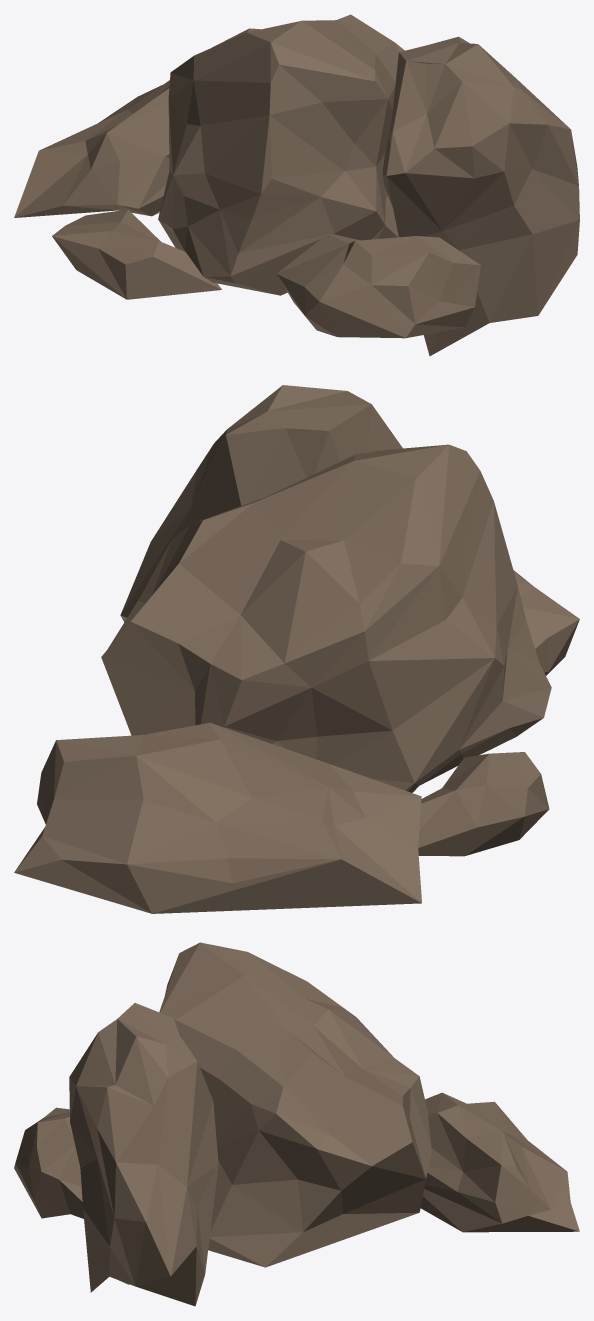
File: rock1.fbx
3 views of the same model, one above another, from view 1: azimuth 30°, elevation 25°; view 2: azimuth 150°, elevation 25°; view 3: azimuth 270°, elevation 25° (orthographic). The views are drawn at different scales.
Parts seen in each view (by area): view 1: Cube.005; view 2: Cube.005; view 3: Cube.005.
Boxes of the visible parts, bbox=[...] form: Cube.005: bbox=[14, 14, 579, 355]; Cube.005: bbox=[14, 385, 579, 913]; Cube.005: bbox=[14, 942, 579, 1306].
Size of the model in its own units: 446 by 312 by 555.
